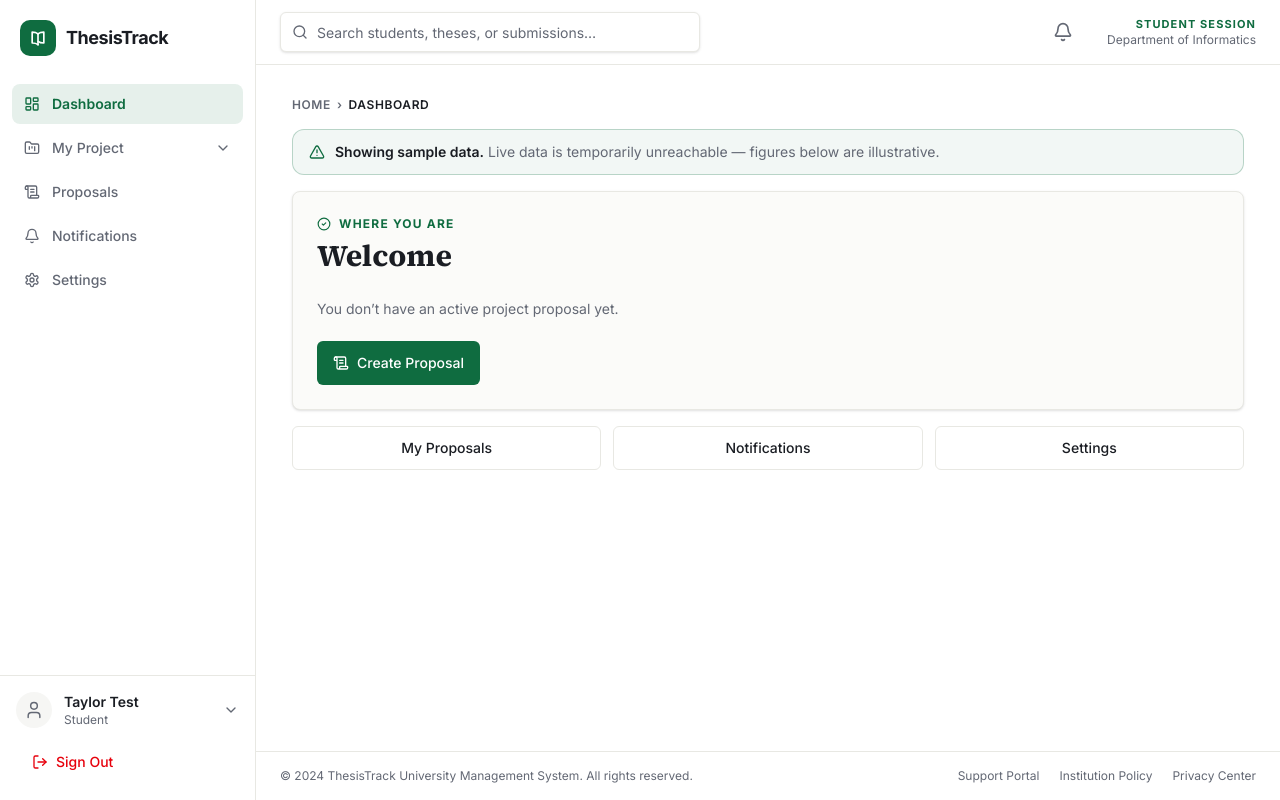
Test: role-aware shell (spec §10.3/§10.5) › student (approved) → state-dependent "My Project ▾" expands its children
The image size is (1280, 800).
expect the element named "Sidebar" is shown: met, box [0, 0, 256, 799]
expect the link "Dashboard" is shown: met, box [12, 84, 243, 124]
Click the button "My Project".
click(128, 148)  # box [12, 128, 243, 168]
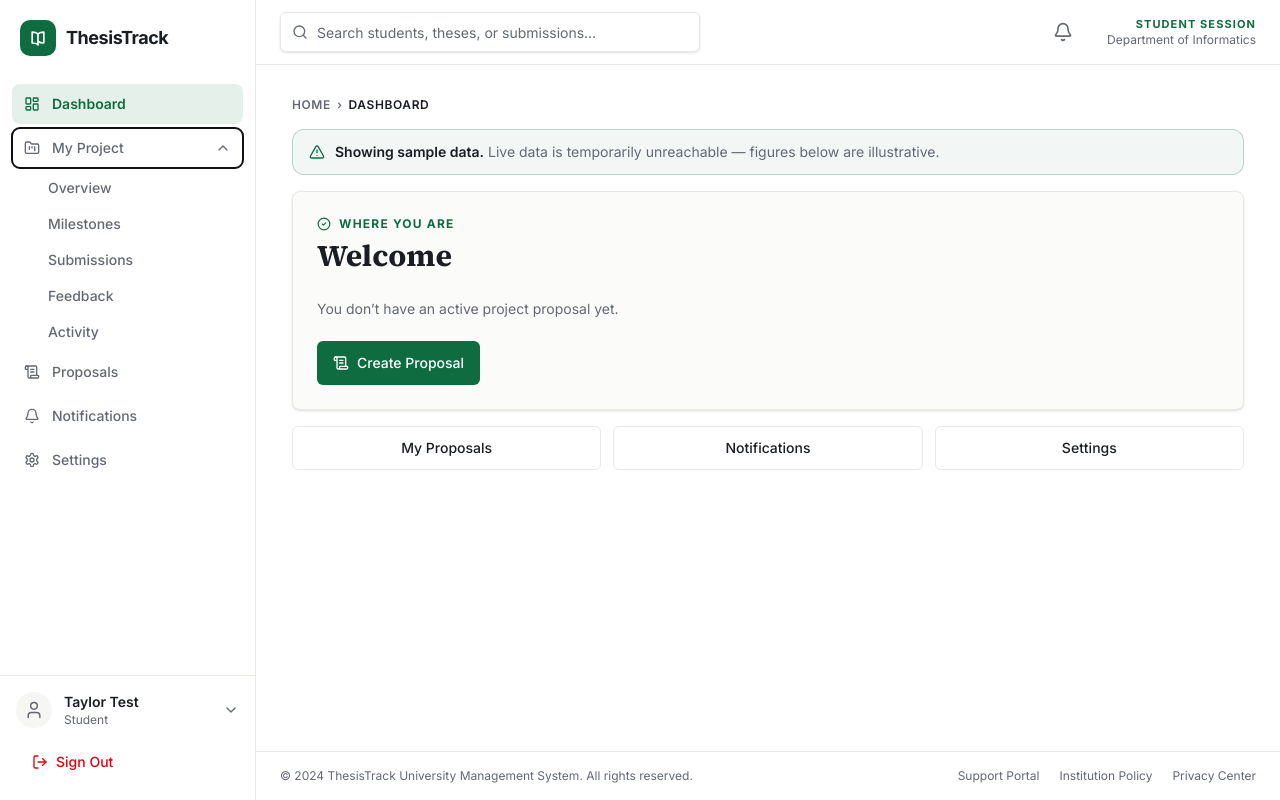
expect the link "Overview" is shown: met, box [48, 179, 112, 196]
expect the link "Milestones" is shown: met, box [48, 215, 121, 232]
expect the link "Submissions" is shown: met, box [48, 251, 133, 268]
